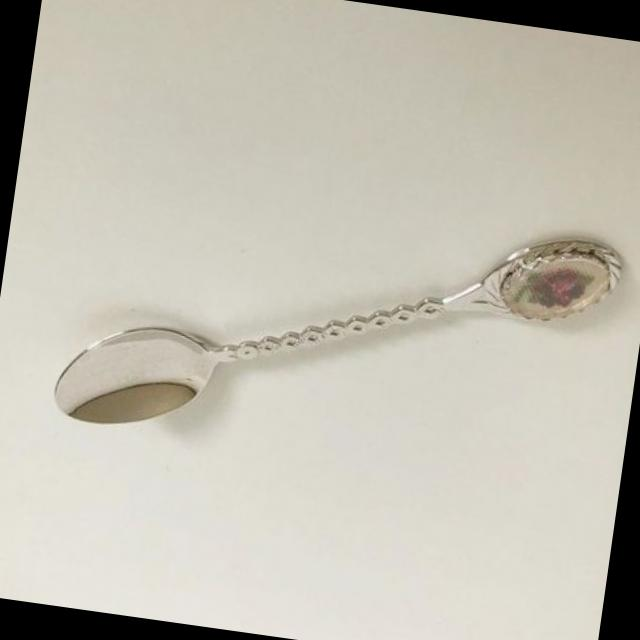spoon: (46, 151, 640, 501)
